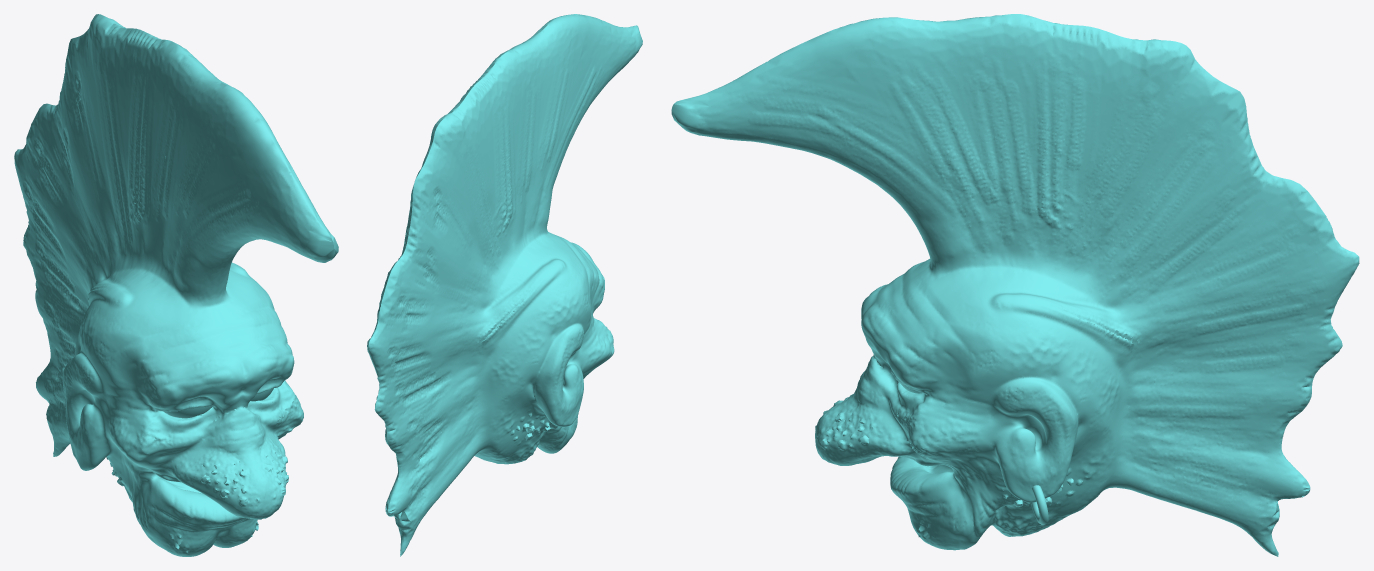
3 renders of one model, left to right at view 1: azimuth 30°, elevation 25°; view 2: azimuth 150°, elevation 25°; view 3: azimuth 270°, elevation 25°, orthographic. The views are drawn at different scales.
Visible parts, largest first — view 1: split_parent_0; view 2: split_parent_0; view 3: split_parent_0.
Boxes of the visible parts, bbox=[...] form: split_parent_0: bbox=[14, 14, 338, 556]; split_parent_0: bbox=[367, 14, 642, 556]; split_parent_0: bbox=[671, 14, 1359, 556].
Size of the model in its own units: 0.3503 by 0.8708 by 1.
